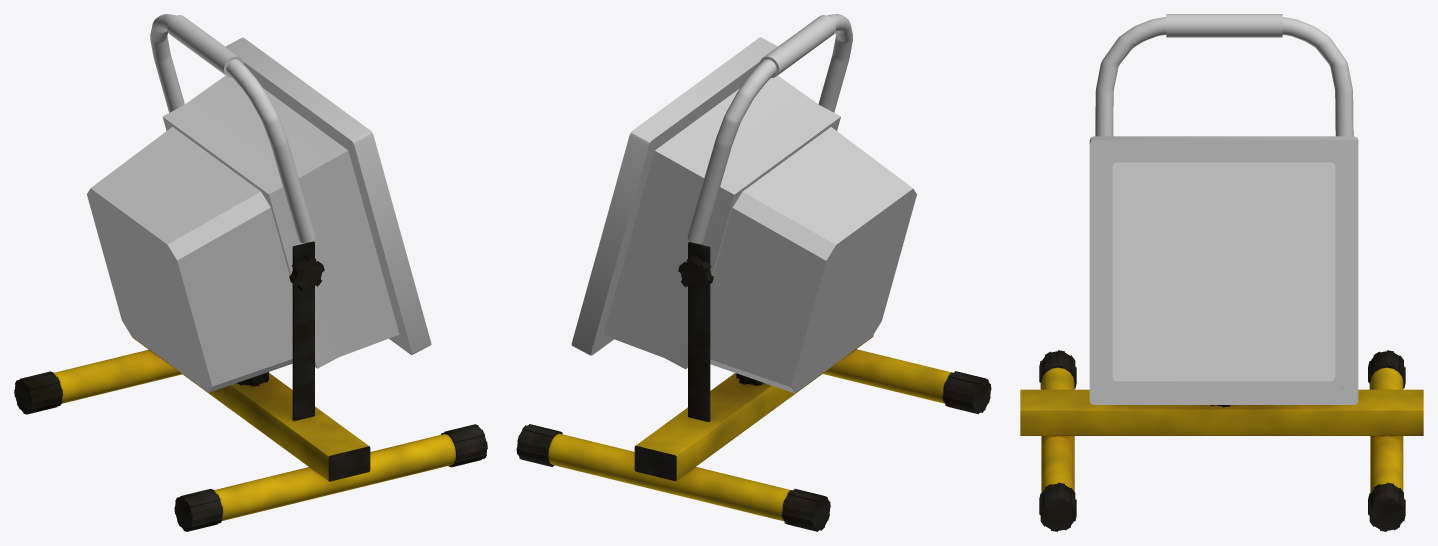
Rendered from Lampe_Chantier.fbx.
3 renders of one model, left to right at view 1: azimuth 30°, elevation 25°; view 2: azimuth 150°, elevation 25°; view 3: azimuth 270°, elevation 25°, orthographic. The views are drawn at different scales.
Visible parts, largest first — view 1: Lampe, Socle; view 2: Lampe, Socle; view 3: Lumiere, Lampe, Socle.
Boxes of the visible parts, x1=… form: Lampe: x1=87, y1=14, x2=431, y2=392; Socle: x1=14, y1=241, x2=487, y2=531; Lampe: x1=571, y1=14, x2=916, y2=393; Socle: x1=516, y1=242, x2=991, y2=531; Lumiere: x1=1112, y1=162, x2=1335, y2=381; Lampe: x1=1089, y1=14, x2=1358, y2=404; Socle: x1=1020, y1=350, x2=1423, y2=531.
Bounding box in the file's own units: 277 × 368 × 319.
